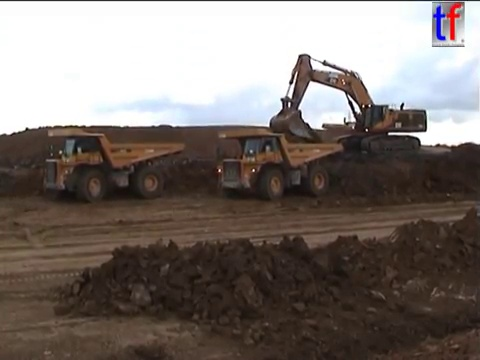excavator: (267, 51, 430, 159)
truck: (41, 126, 185, 203), (214, 127, 346, 201)
